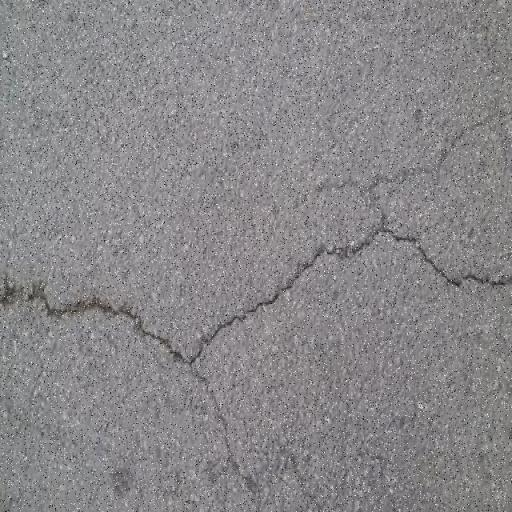moderate crack: (296, 97, 502, 214), (196, 385, 287, 512)
severe crack: (0, 220, 512, 381)
